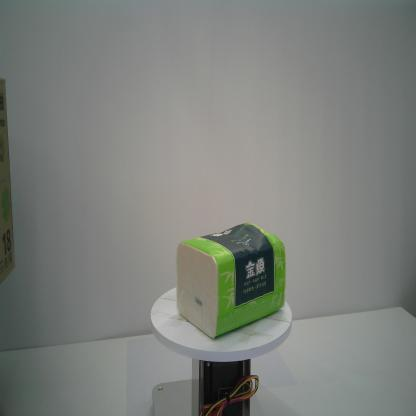Tissue: (175, 220, 287, 341)
